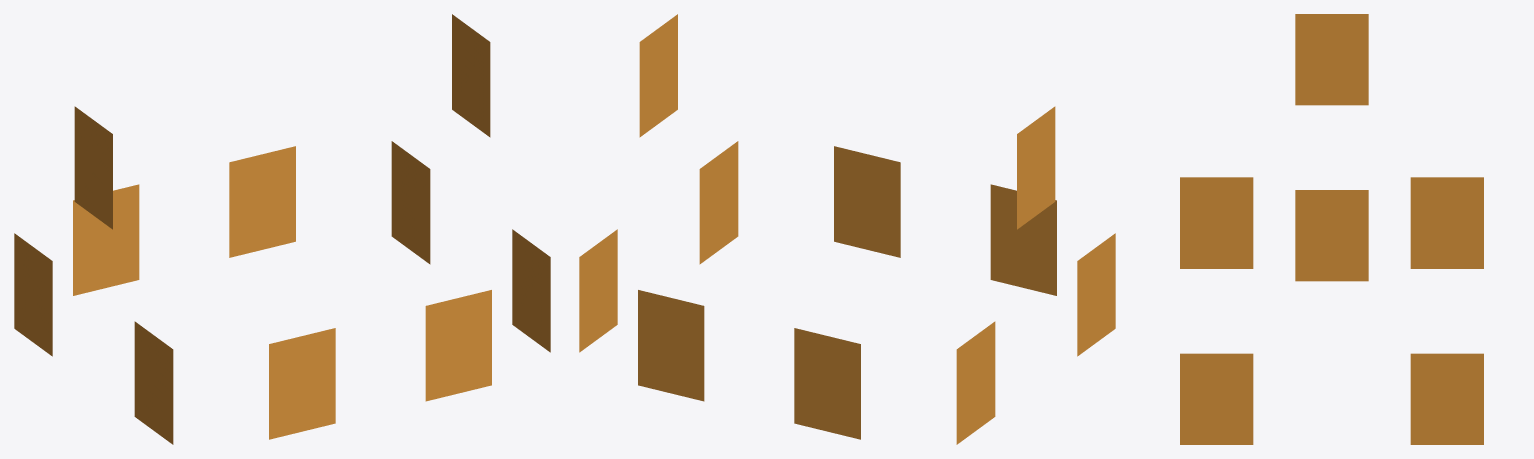
File: HouseWindows.glb
3 renders of one model, left to right at view 1: azimuth 30°, elevation 25°; view 2: azimuth 150°, elevation 25°; view 3: azimuth 270°, elevation 25°, orthographic. The views are drawn at different scales.
Parts seen in each view (by area): view 1: Windows; view 2: Windows; view 3: Windows.
Boxes of the visible parts, x1,y1,x2,y2 form: Windows: (14,14,550,444); Windows: (579,14,1115,444); Windows: (1180,14,1483,444).
Size of the model in its own units: 10.04 by 6.78 by 9.04.
